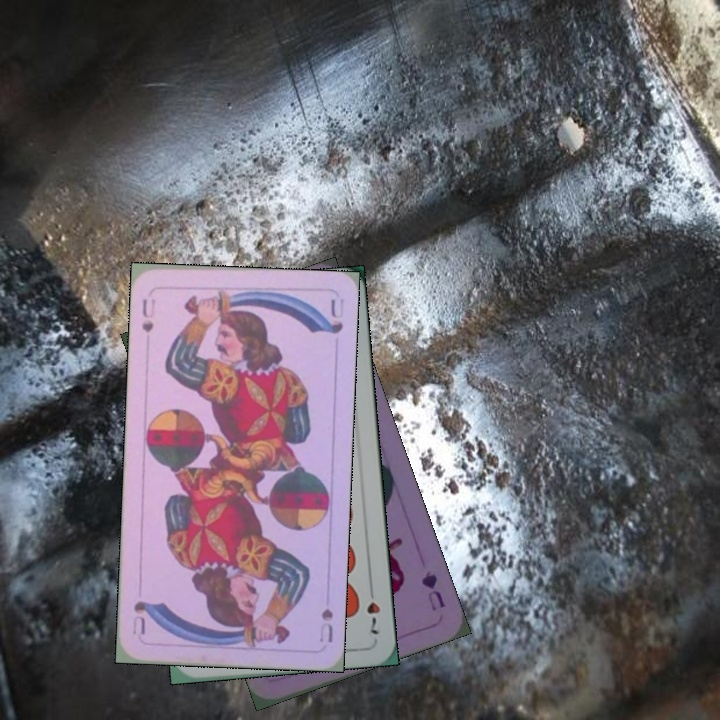GU: (417, 567, 448, 613)
H7: (363, 581, 383, 637)
SU: (315, 605, 336, 645), (138, 294, 158, 335)
